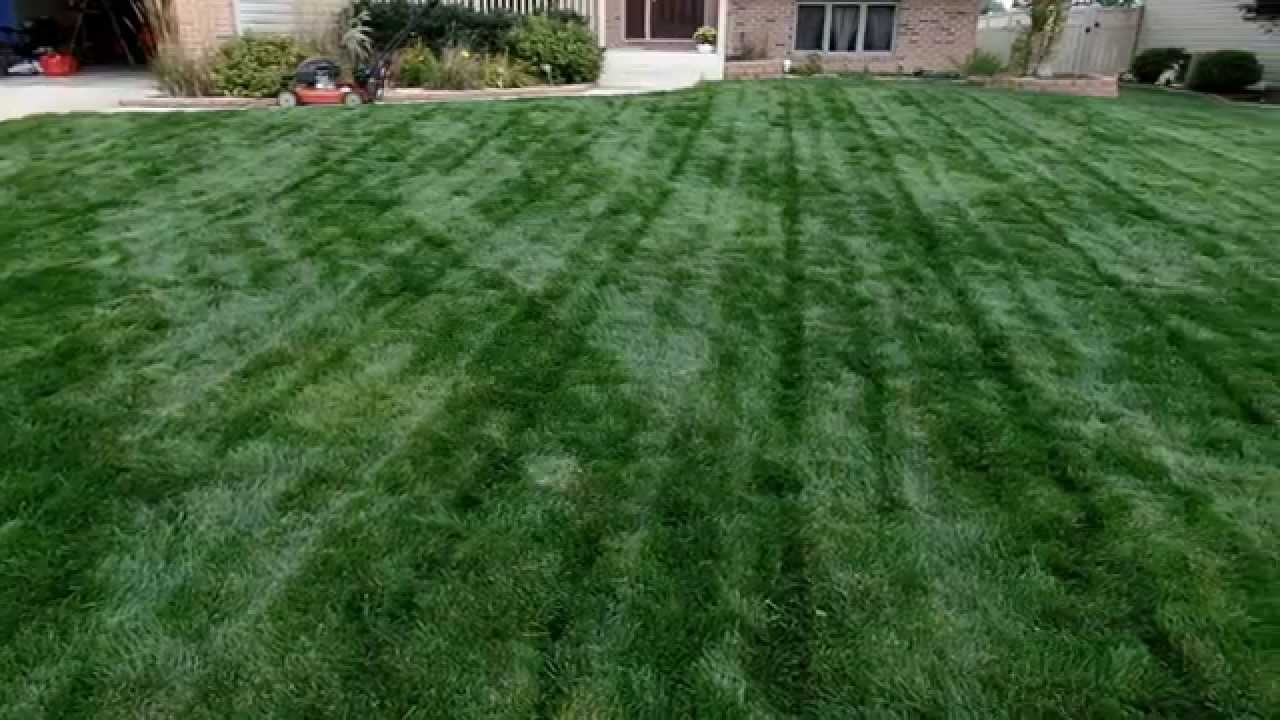grass: (2, 118, 1280, 720)
